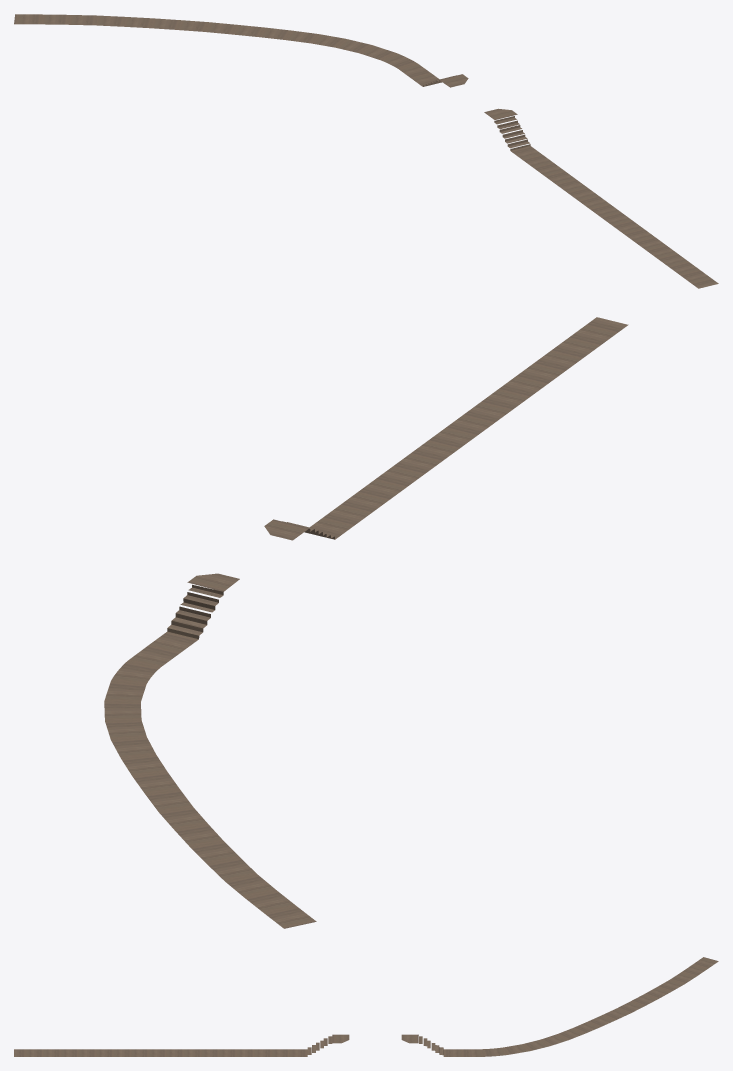
Rendered from pref_sm_4v4_city_hunt01_terrain_08_lv3.fbx.
The picture shows the model from 3 angles, top to bottom: view 1: azimuth 30°, elevation 25°; view 2: azimuth 150°, elevation 25°; view 3: azimuth 270°, elevation 25°; orthographic projection. The views are drawn at different scales.
Parts seen in each view (by area): view 1: pref_sm_4v4_city_hunt01_terrain_08_lv3; view 2: pref_sm_4v4_city_hunt01_terrain_08_lv3; view 3: pref_sm_4v4_city_hunt01_terrain_08_lv3.
Part boxes in pixels (x1,y1,x2,y2): pref_sm_4v4_city_hunt01_terrain_08_lv3: (14,14,718,288); pref_sm_4v4_city_hunt01_terrain_08_lv3: (104,317,628,928); pref_sm_4v4_city_hunt01_terrain_08_lv3: (14,957,718,1056).
Bounding box in the file's own units: 34.1 × 2.33 × 100.
